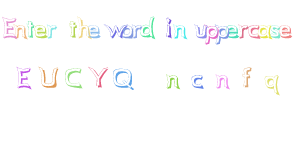C: (63, 65, 86, 92)
E: (12, 63, 33, 90), (1, 14, 16, 41)
Q: (112, 63, 140, 94)
U: (36, 62, 61, 91)
Y: (87, 63, 110, 93)
a: (260, 22, 272, 45)
c: (187, 67, 210, 95), (248, 23, 260, 44)
d: (141, 16, 160, 42), (132, 23, 142, 42)
e: (87, 19, 103, 42), (281, 23, 296, 43), (34, 21, 48, 41), (227, 22, 239, 42)
f: (237, 64, 257, 90)
h: (77, 15, 90, 42)
i: (163, 16, 174, 43)
n: (162, 65, 185, 95), (213, 69, 234, 94), (173, 20, 188, 41), (15, 19, 27, 40)
o: (121, 22, 133, 43)
p: (217, 23, 228, 48), (207, 23, 217, 48)
q: (262, 70, 288, 98)
r: (47, 22, 59, 42), (239, 23, 250, 44)
s: (270, 23, 280, 41)
t: (66, 19, 78, 41), (27, 19, 36, 41)
u: (193, 20, 207, 42)
w: (103, 20, 124, 42)
